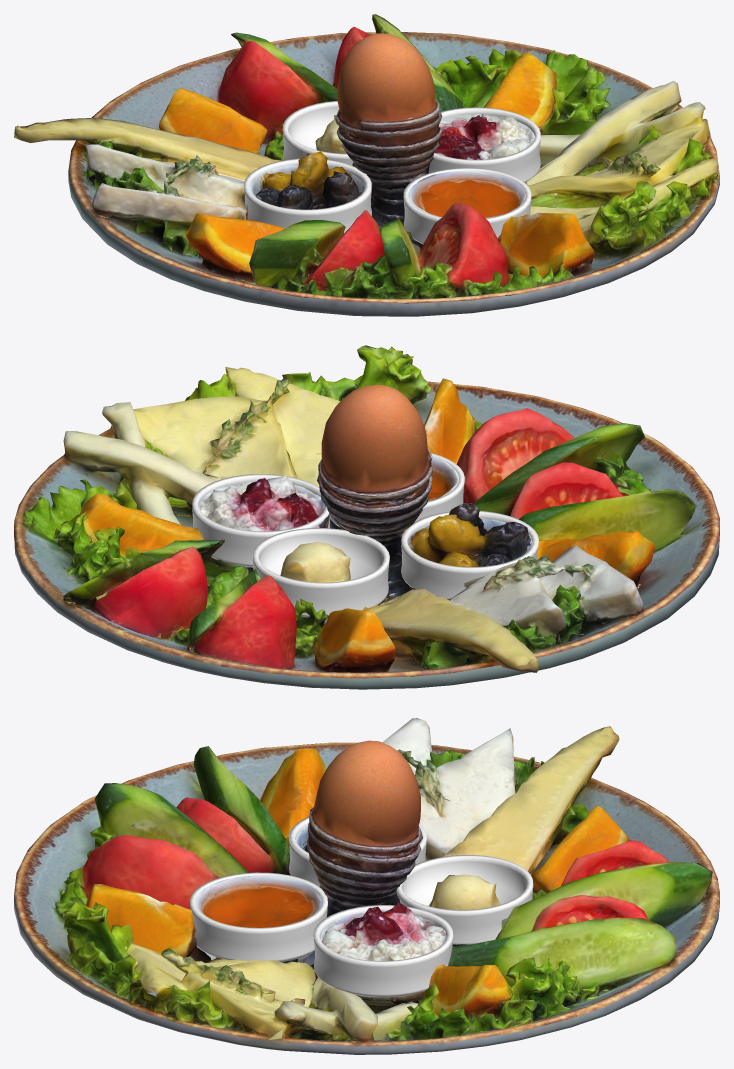
The model's file is Dish.glb.
The picture shows the model from 3 angles, top to bottom: view 1: azimuth 30°, elevation 25°; view 2: azimuth 150°, elevation 25°; view 3: azimuth 270°, elevation 25°; orthographic projection. The views are drawn at different scales.
Visible parts, largest first — view 1: 4.001_object.004_1, KaseBuyuk.010_Cylinder.024_6, KaseBuyuk.008_Cylinder.022_4, KaseBuyuk.007_Cylinder.021_3, KaseBuyuk.009_Cylinder.023_5, KaseBuyuk.005_Cylinder.001_2; view 2: 4.001_object.004_1, KaseBuyuk.007_Cylinder.021_3, KaseBuyuk.010_Cylinder.024_6, KaseBuyuk.005_Cylinder.001_2, KaseBuyuk.008_Cylinder.022_4, KaseBuyuk.009_Cylinder.023_5; view 3: 4.001_object.004_1, KaseBuyuk.007_Cylinder.021_3, KaseBuyuk.010_Cylinder.024_6, KaseBuyuk.009_Cylinder.023_5, KaseBuyuk.008_Cylinder.022_4.
Part boxes in pixels (x1,y1,x2,y2): 4.001_object.004_1: (14,14,719,316); KaseBuyuk.010_Cylinder.024_6: (428,107,540,182); KaseBuyuk.008_Cylinder.022_4: (244,158,371,232); KaseBuyuk.007_Cylinder.021_3: (282,101,353,165); KaseBuyuk.009_Cylinder.023_5: (403,167,531,244); KaseBuyuk.005_Cylinder.001_2: (261,162,370,211); 4.001_object.004_1: (14,345,719,689); KaseBuyuk.007_Cylinder.021_3: (253,528,389,623); KaseBuyuk.010_Cylinder.024_6: (192,474,330,567); KaseBuyuk.005_Cylinder.001_2: (402,511,538,591); KaseBuyuk.008_Cylinder.022_4: (401,519,538,599); KaseBuyuk.009_Cylinder.023_5: (330,453,464,526); 4.001_object.004_1: (14,718,719,1054); KaseBuyuk.007_Cylinder.021_3: (396,855,533,944); KaseBuyuk.010_Cylinder.024_6: (313,905,453,997); KaseBuyuk.009_Cylinder.023_5: (190,872,327,962); KaseBuyuk.008_Cylinder.022_4: (288,818,426,886).
Bounding box in the file's own units: 0.301 × 0.0955 × 0.301.
Materials: 6 (1 with a texture image).
